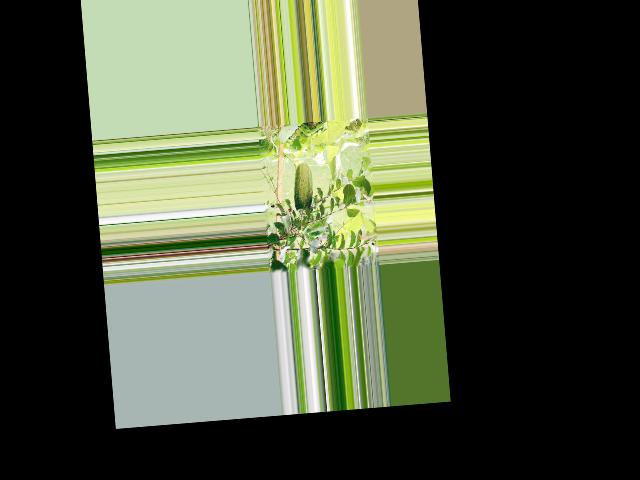cucumber: (290, 162, 314, 216)
